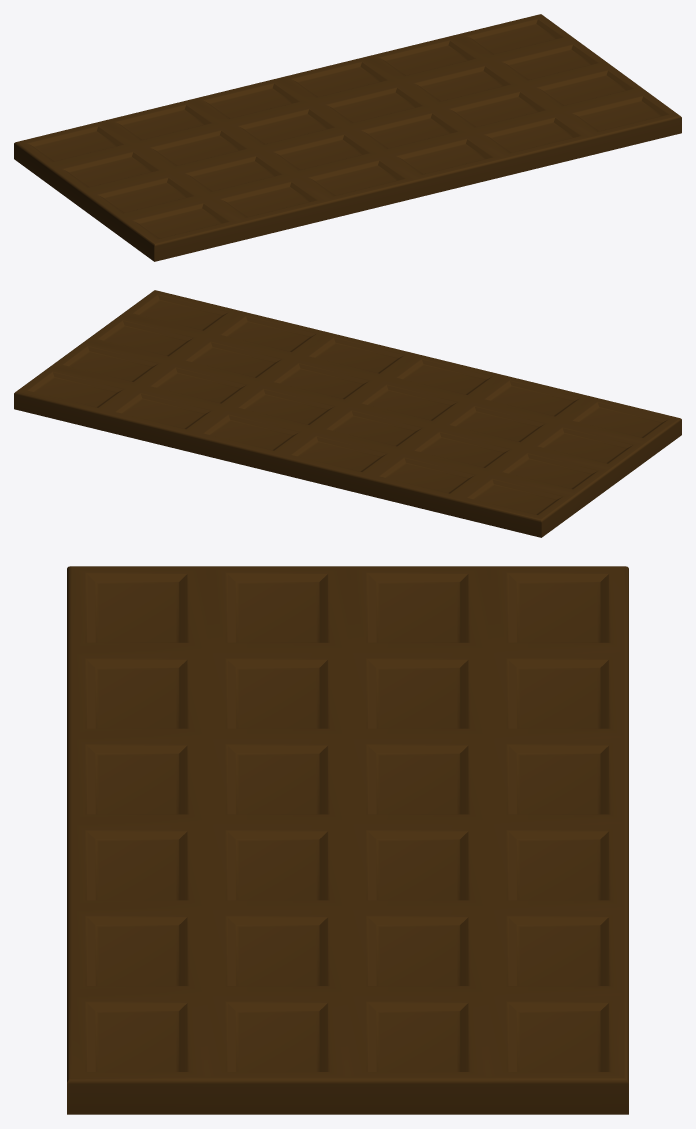
Rendered from tabliczka czekolady.fbx.
3 renders of one model, top to bottom at view 1: azimuth 30°, elevation 25°; view 2: azimuth 150°, elevation 25°; view 3: azimuth 270°, elevation 25°, orthographic. The views are drawn at different scales.
Visible parts, largest first — view 1: Cube; view 2: Cube; view 3: Cube.
Part boxes in pixels (<box>): Cube: <box>14,14,681,261</box>; Cube: <box>14,290,681,537</box>; Cube: <box>67,566,628,1114</box>.
Bounding box in the file's own units: 2281 × 71.74 × 1052.
